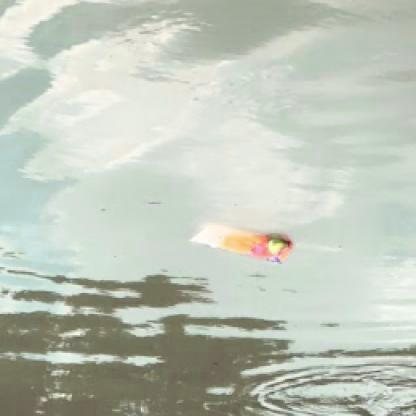Trash: (190, 219, 294, 268)
